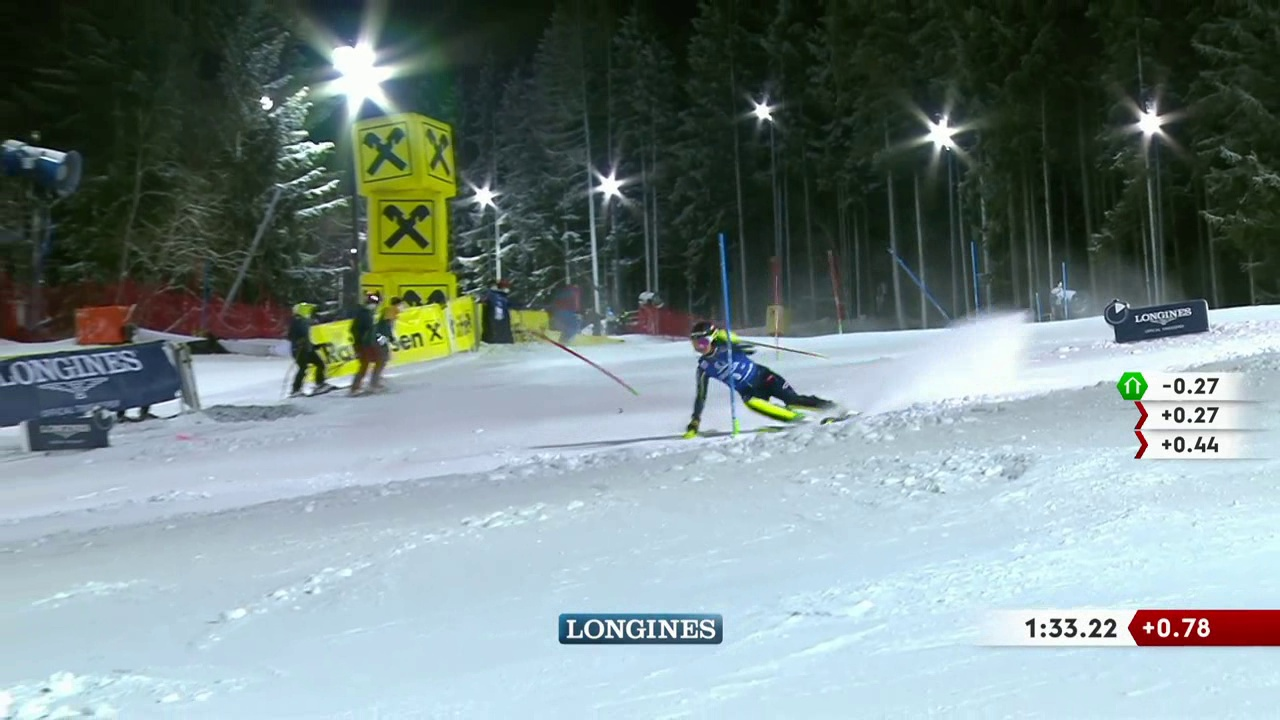longines: (1, 343, 167, 411), (554, 612, 733, 647), (1124, 299, 1206, 337)
raiffeisen: (377, 199, 437, 260), (356, 120, 413, 179), (391, 311, 451, 365), (419, 118, 458, 182)
